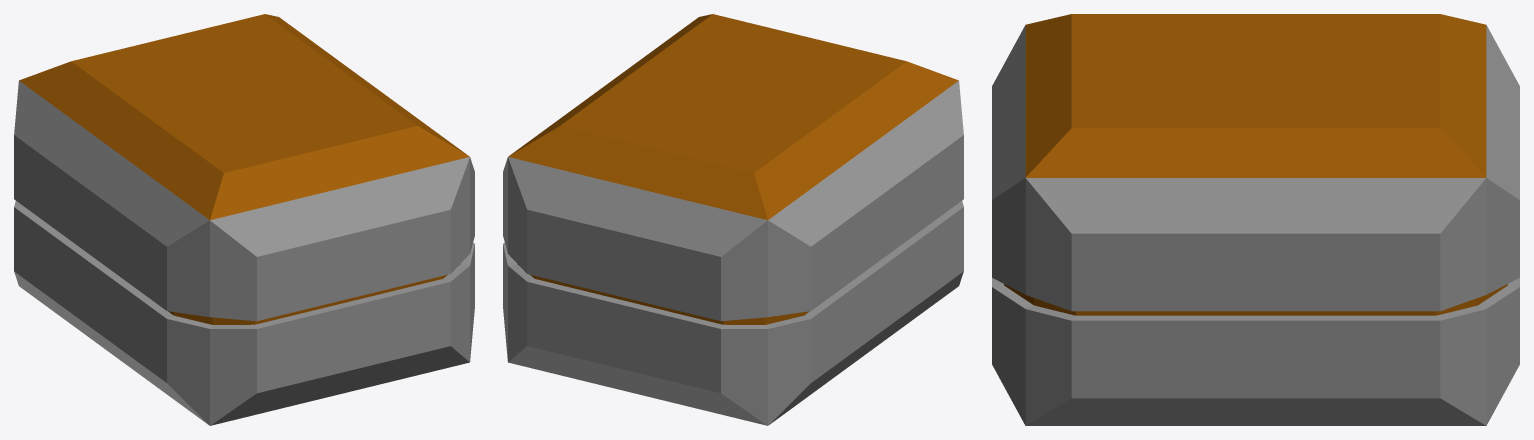
The model's file is Contenedor.fbx.
3 renders of one model, left to right at view 1: azimuth 30°, elevation 25°; view 2: azimuth 150°, elevation 25°; view 3: azimuth 270°, elevation 25°, orthographic. The views are drawn at different scales.
Visible parts, largest first — view 1: caja de suministros; view 2: caja de suministros; view 3: caja de suministros.
Boxes of the visible parts, bbox=[...] form: caja de suministros: bbox=[14, 14, 474, 425]; caja de suministros: bbox=[503, 14, 963, 425]; caja de suministros: bbox=[992, 14, 1519, 425].
Bounding box in the file's own units: 54.99 × 39.36 × 67.63.
